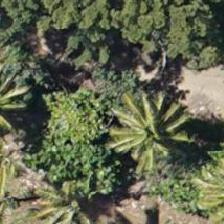coconut_tree: (93, 85, 183, 175), (29, 164, 119, 223)
